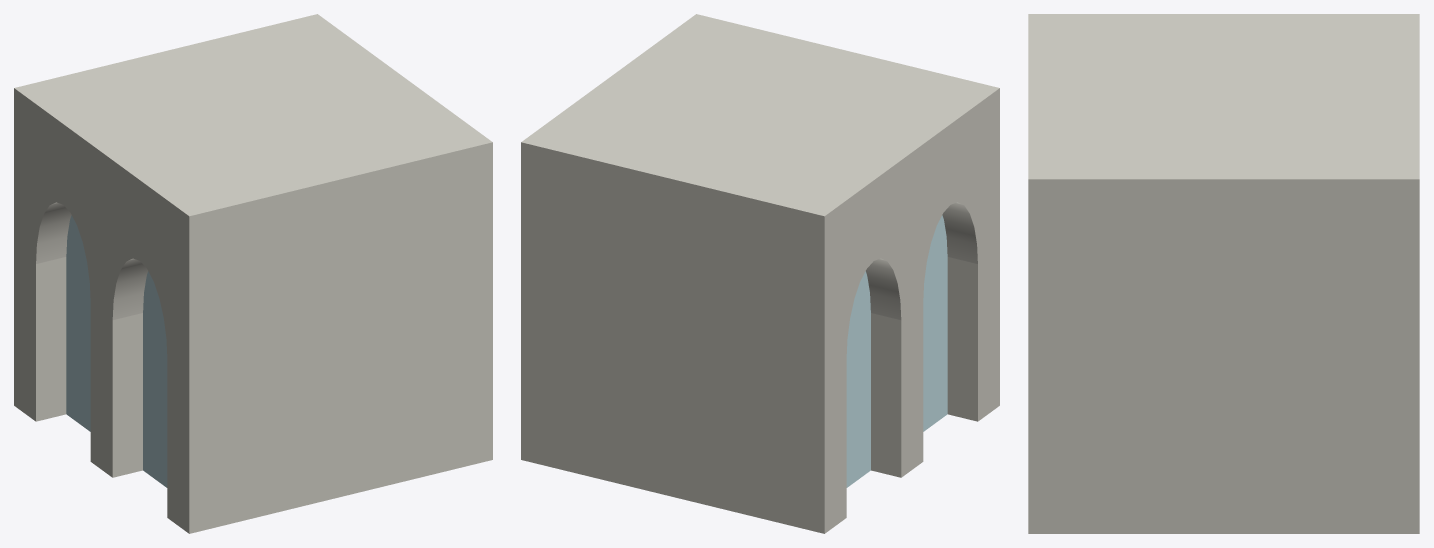
The model's file is Building Story 2.fbx.
The picture shows the model from 3 angles, left to right: view 1: azimuth 30°, elevation 25°; view 2: azimuth 150°, elevation 25°; view 3: azimuth 270°, elevation 25°; orthographic projection. The views are drawn at different scales.
Visible parts, largest first — view 1: Building Story 2; view 2: Building Story 2; view 3: Building Story 2.
Boxes of the visible parts, left/top/right/bottom form: Building Story 2: left=14, top=14, right=492, bottom=533; Building Story 2: left=521, top=14, right=999, bottom=533; Building Story 2: left=1028, top=14, right=1419, bottom=533.
Size of the model in its own units: 1 by 1 by 1.
